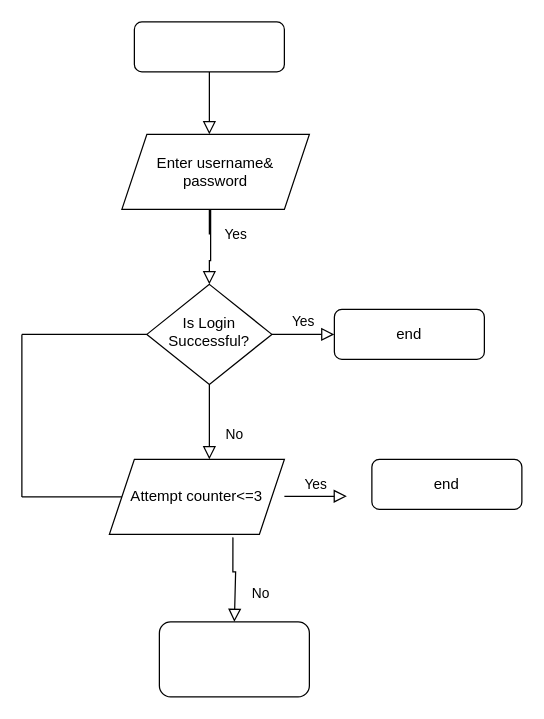
This 544x719 diagram has some shape labels left out. Each missing label, with the centre of its shape:
"Locked Account" belongs at point 233,659.
"Start" belongs at point 208,46.
